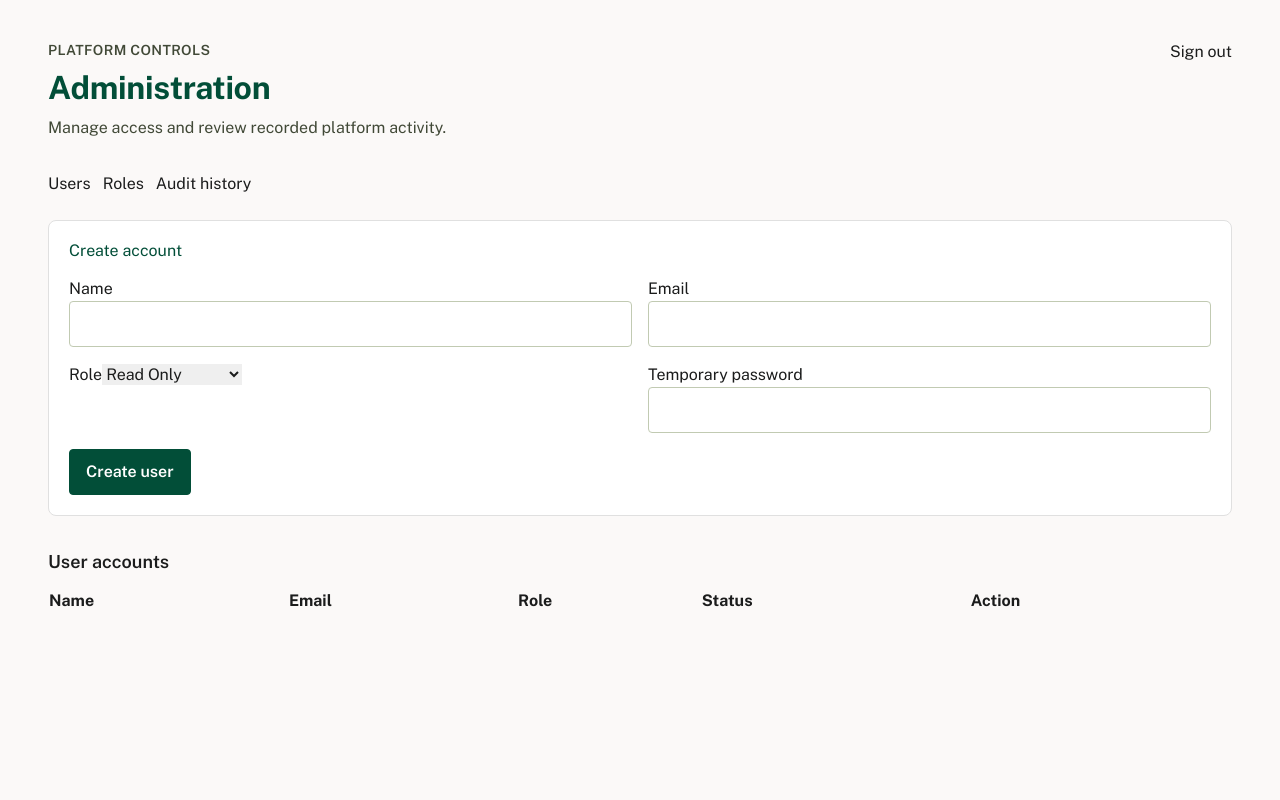
Test case: AdministrationPage › downloads authorized audit CSV only on explicit action and displays backend errors
Click the tab "Audit history".
click(204, 184)  # box [156,172,251,196]
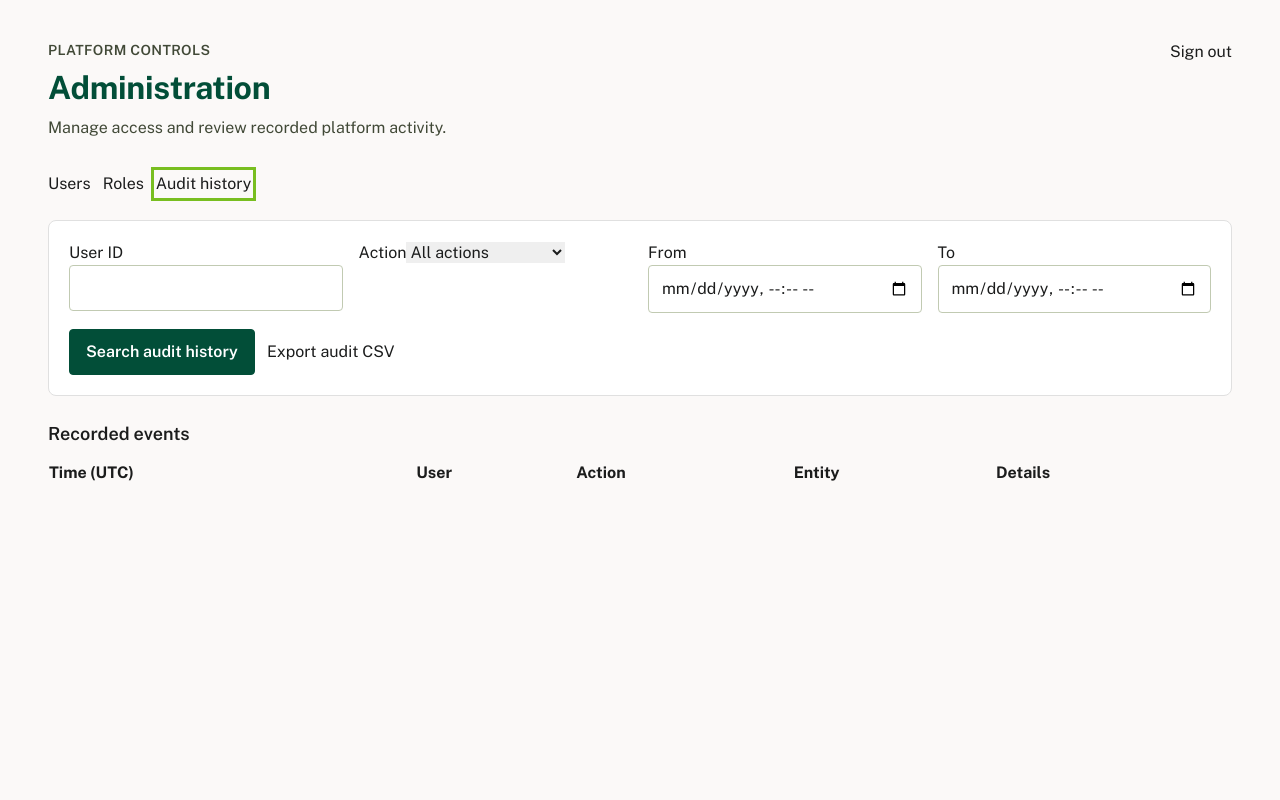
Now the button "Export audit CSV" is enabled
Click the button "Export audit CSV".
click(331, 352)  # box [267,329,394,375]
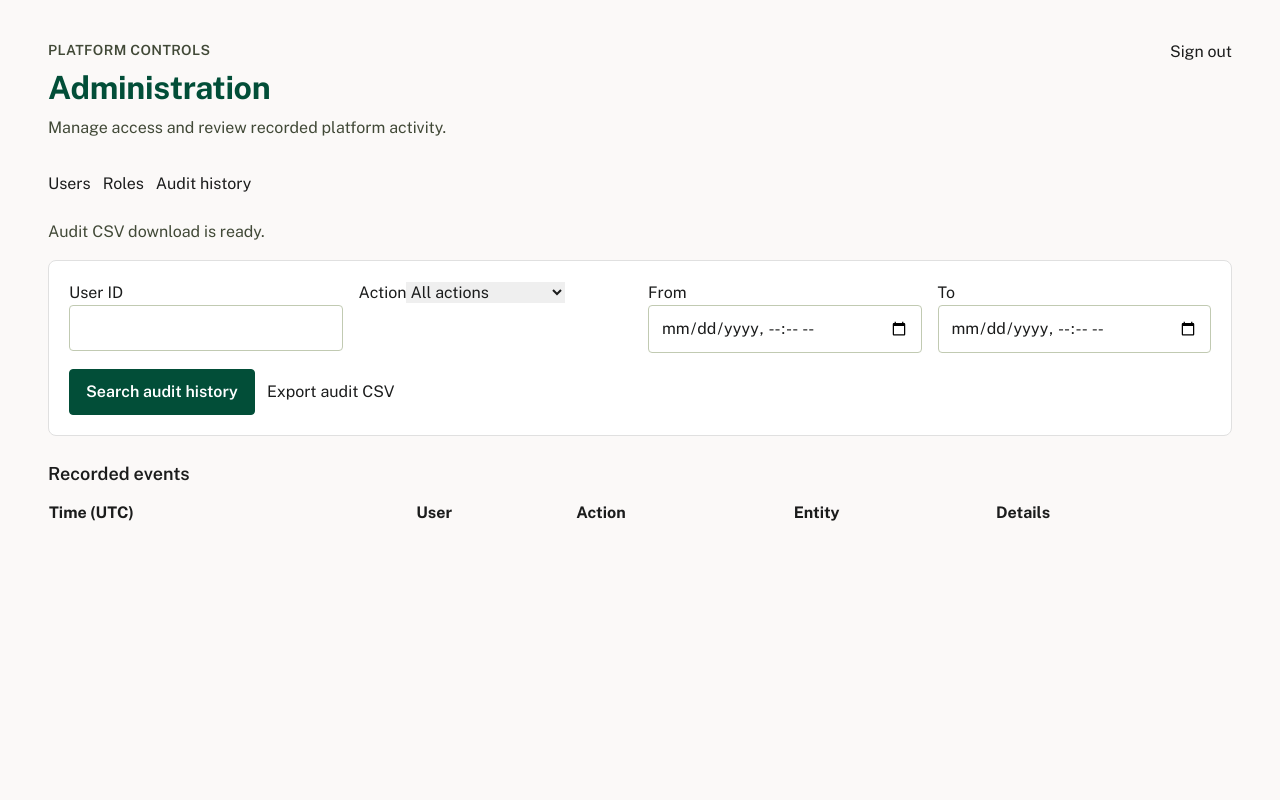
Click the button "Export audit CSV".
click(331, 392)  # box [267,369,394,415]
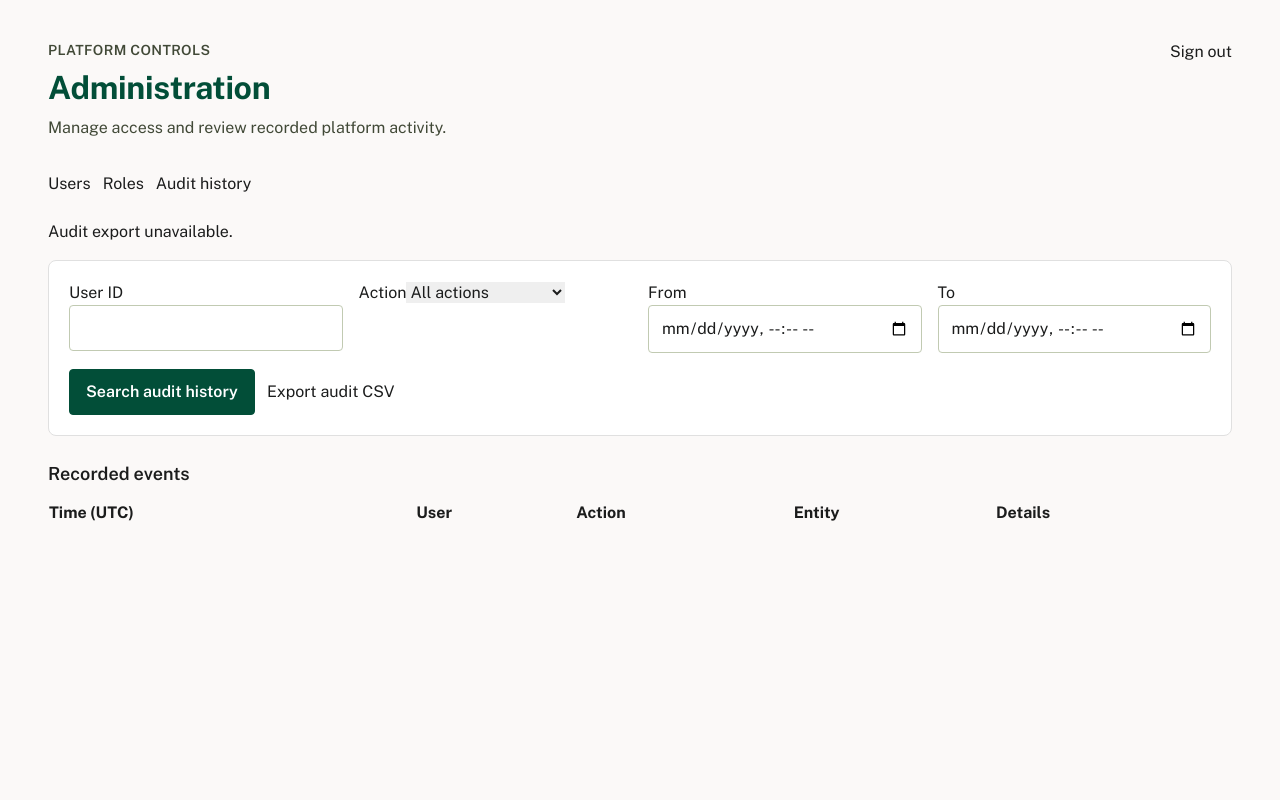
Now the message reads "Audit export unavailable.", box [48,222,232,241]
